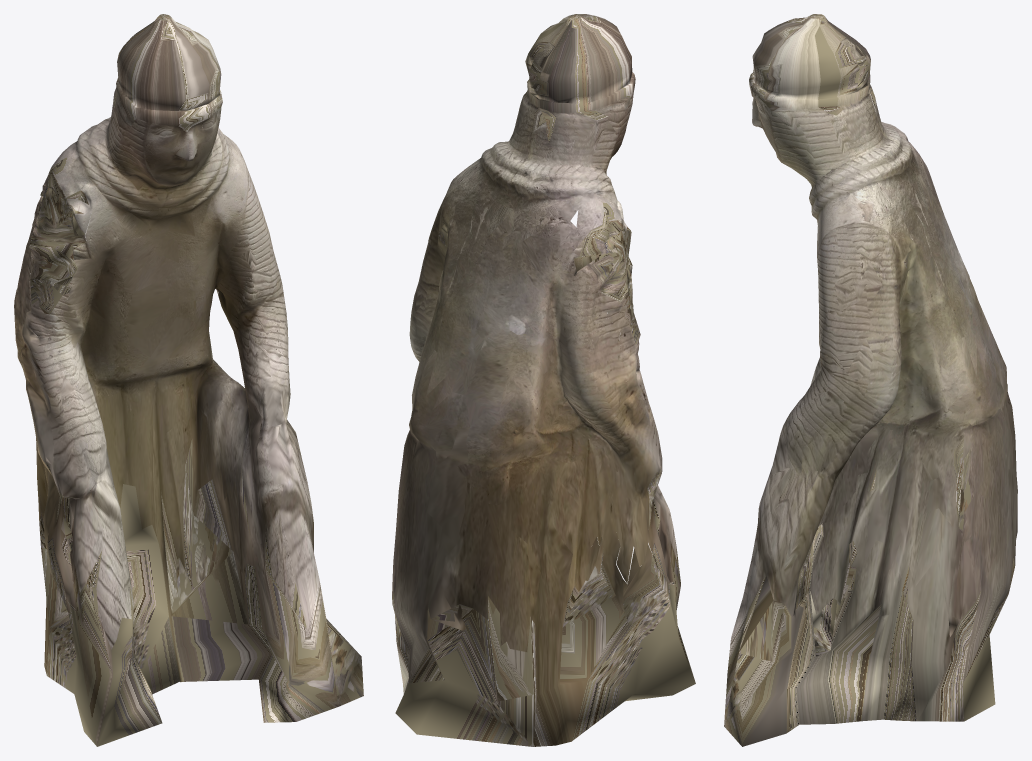
Rendered from 16_knight.glb.
3 views of the same model, side by side, from view 1: azimuth 30°, elevation 25°; view 2: azimuth 150°, elevation 25°; view 3: azimuth 270°, elevation 25° (orthographic). The views are drawn at different scales.
Visible parts, largest first — view 1: Mesh_0; view 2: Mesh_0; view 3: Mesh_0.
Boxes of the visible parts, left/top/right/bottom form: Mesh_0: left=14, top=14, right=363, bottom=746; Mesh_0: left=392, top=14, right=695, bottom=746; Mesh_0: left=724, top=14, right=1017, bottom=746.
Bounding box in the file's own units: 0.7878 × 1.98 × 0.7981.
4 materials, 4 textured.
